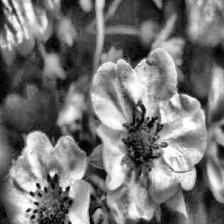Blossom Blight: (21, 172, 78, 224)
